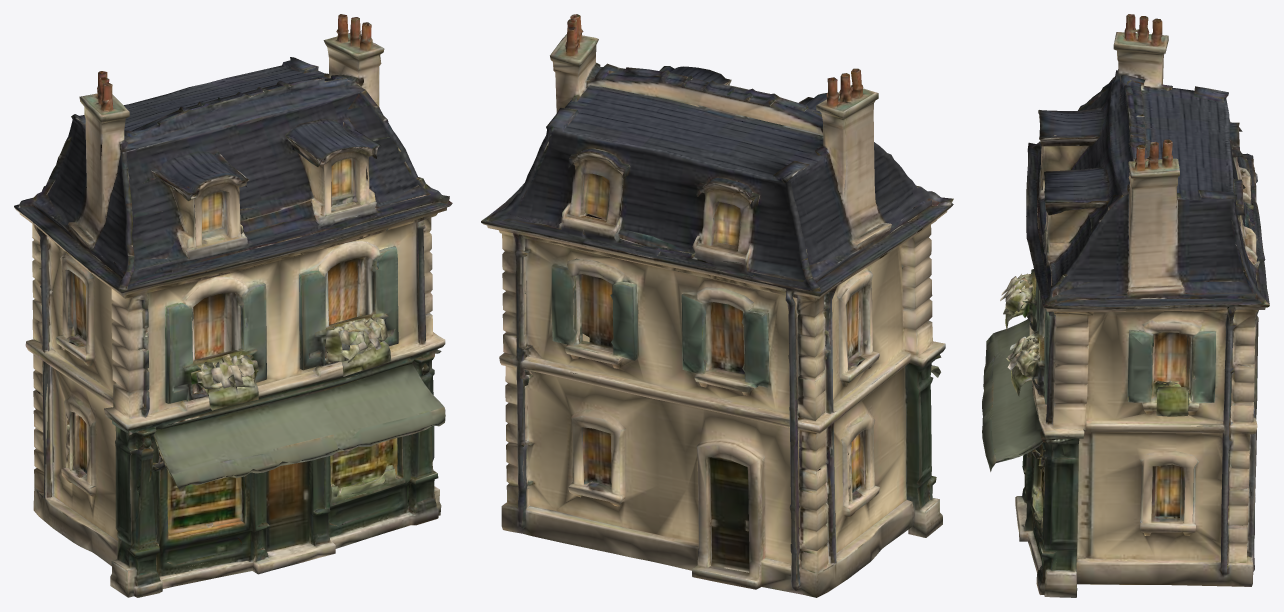
File: shop_2.glb
The picture shows the model from 3 angles, left to right: view 1: azimuth 30°, elevation 25°; view 2: azimuth 150°, elevation 25°; view 3: azimuth 270°, elevation 25°; orthographic projection. The views are drawn at different scales.
Visible parts, largest first — view 1: classic__shop_2__neural_lod; view 2: classic__shop_2__neural_lod; view 3: classic__shop_2__neural_lod.
Part boxes in pixels (x1,y1,x2,y2): classic__shop_2__neural_lod: (14, 14, 452, 597); classic__shop_2__neural_lod: (481, 14, 953, 597); classic__shop_2__neural_lod: (982, 14, 1269, 597).
Size of the model in its own units: 0.7584 by 0.9995 by 0.5816.
1 material, 1 textured.
